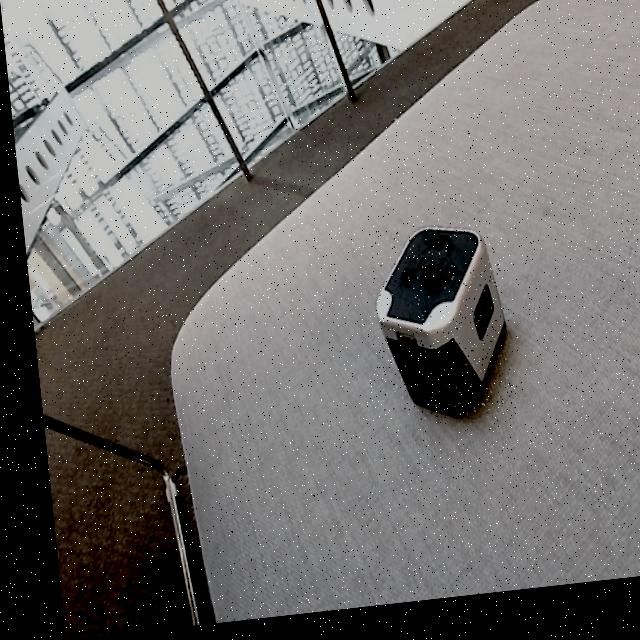adapter: (360, 227, 506, 432)
